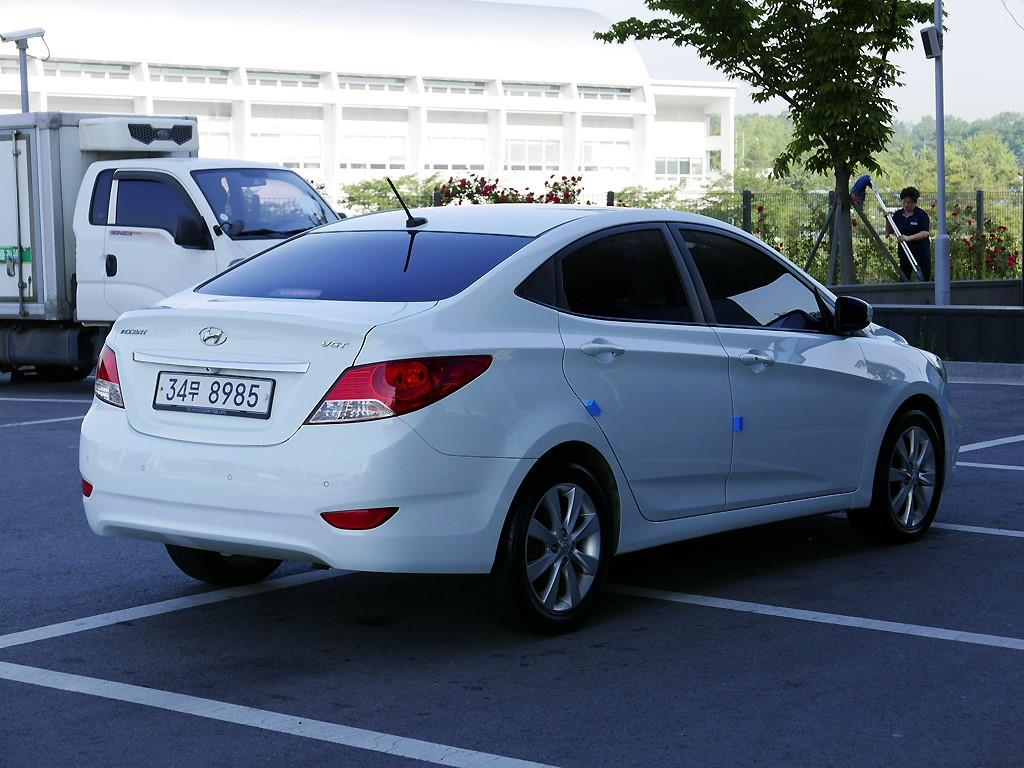plate: (155, 372, 273, 413)
